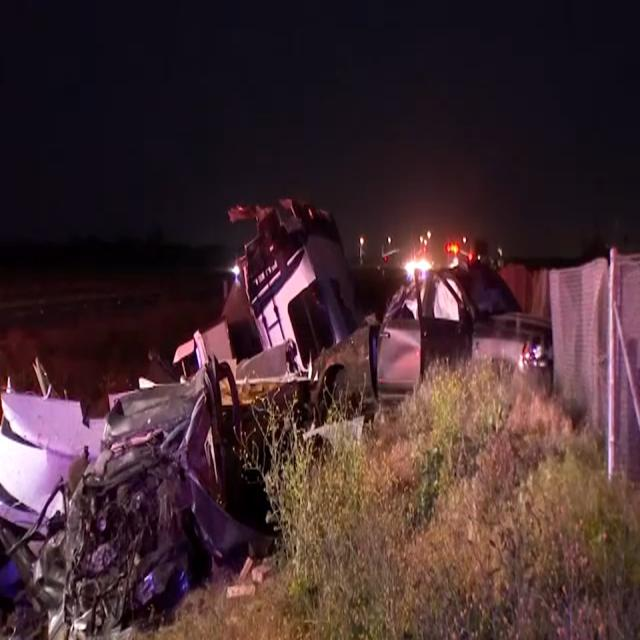Accident: (173, 188, 551, 422), (2, 344, 272, 636)
